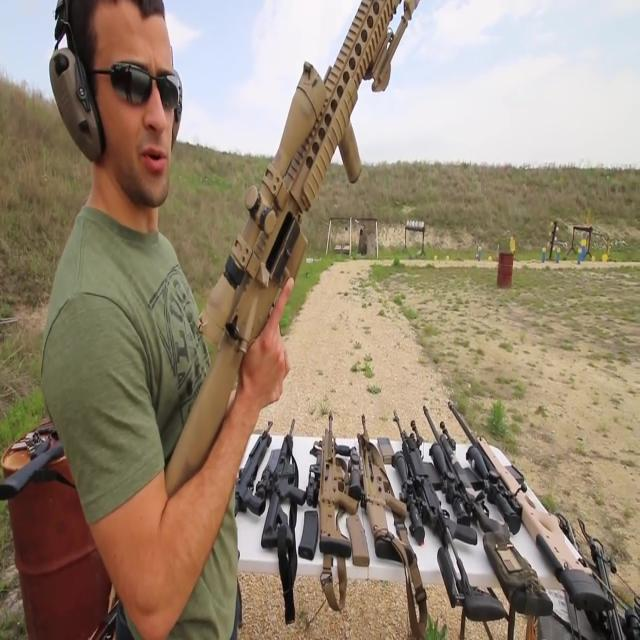Weapon: (127, 0, 475, 439), (184, 376, 271, 539), (5, 380, 80, 531), (245, 418, 302, 613)
